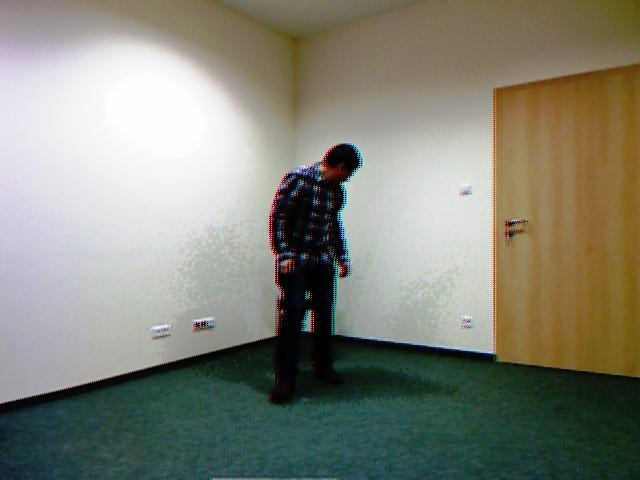walking: (263, 130, 373, 405)
